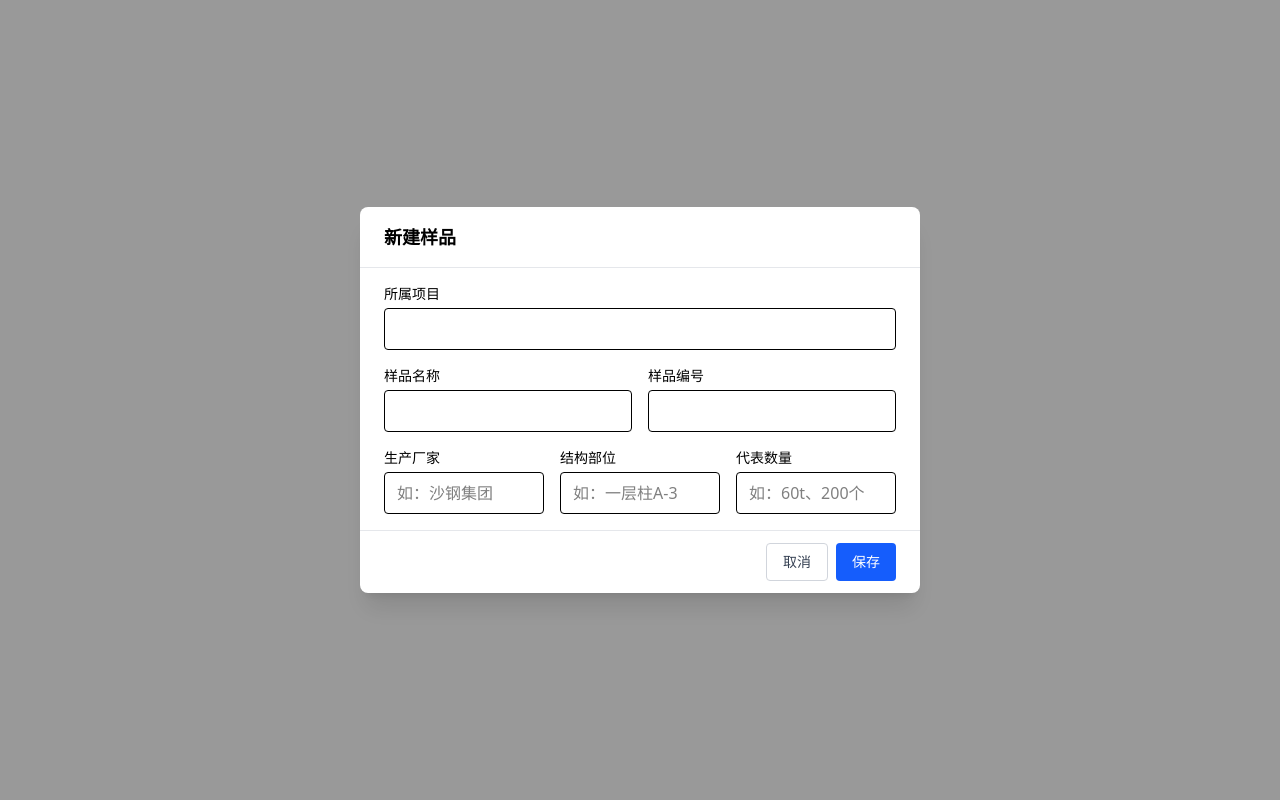
Test case: SampleFormModal 表单（create/edit 复用） › 必填校验: projectId 为空显示错误 › [fn: M03.F03.I02]
Type "X" into the field labelled "样品名称".
click(508, 411); type("X")  # box [384,390,632,432]
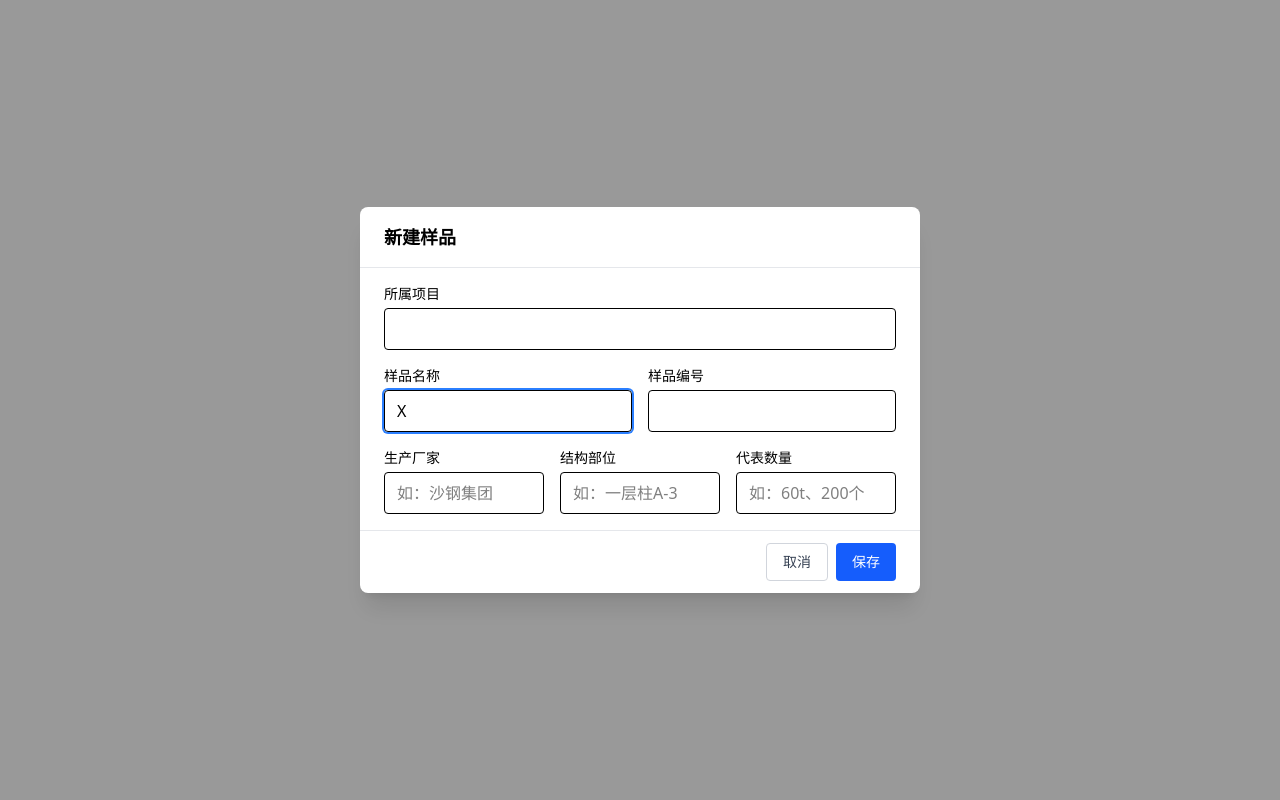
Type "X-1" into the field labelled "样品编号".
click(772, 411); type("X-1")  # box [648,390,896,432]
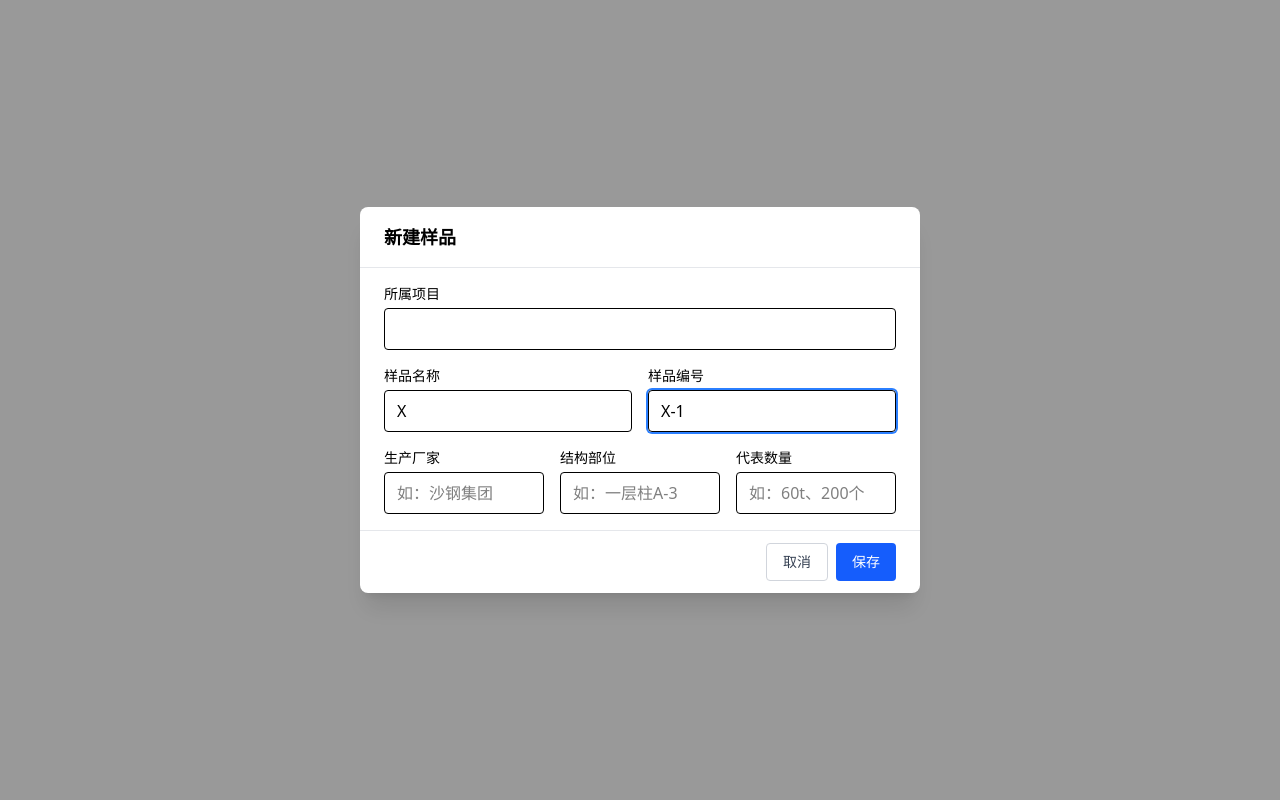
Click the button "保存".
click(866, 562)  # box [836,543,896,581]
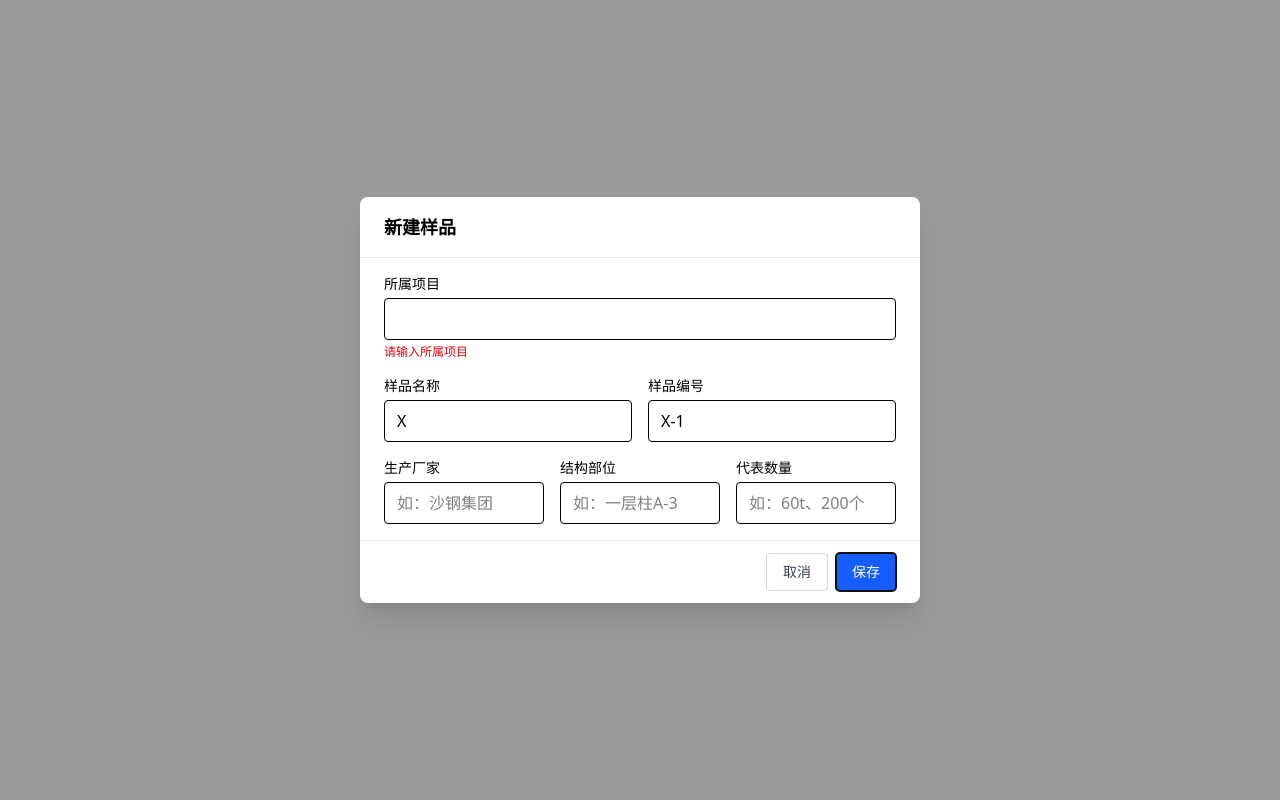
Check: the text "请输入所属项目" is shown, box [384,343,468,360]
